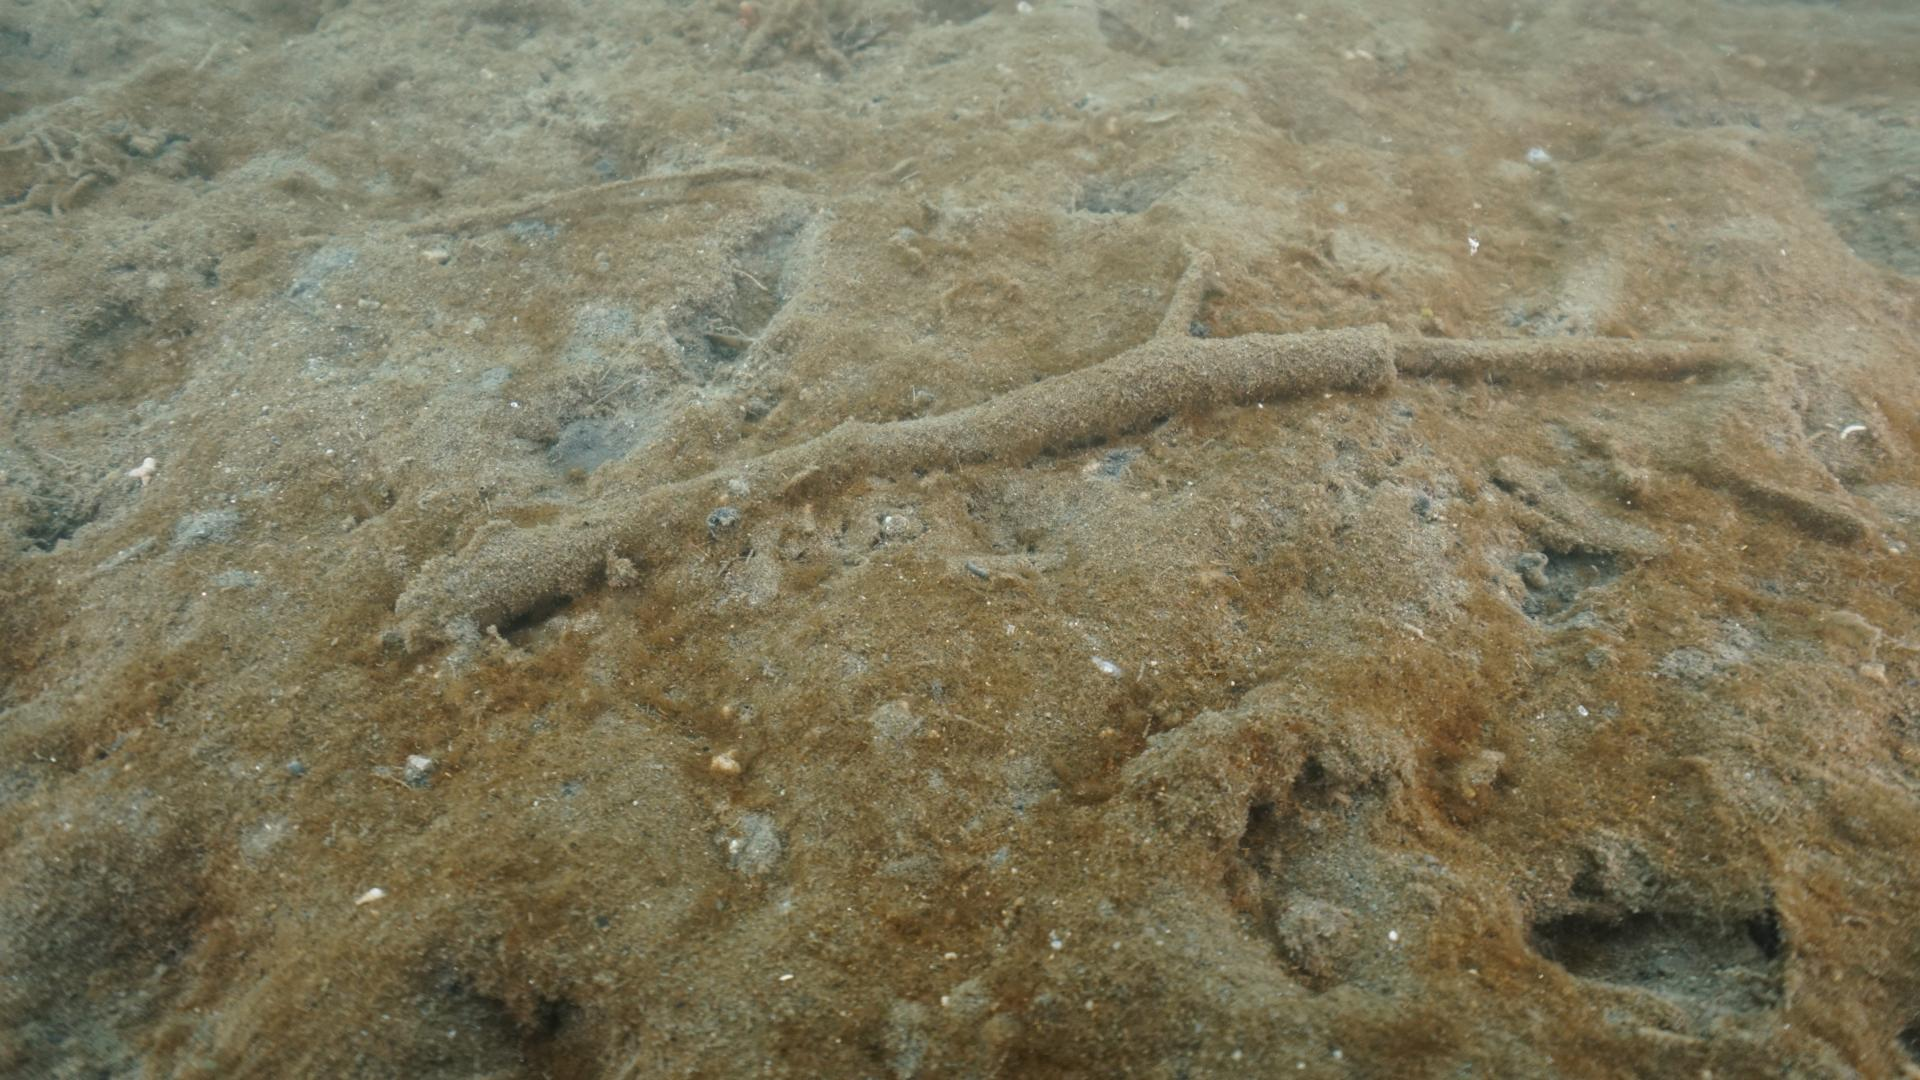wood: (396, 233, 1393, 641)
